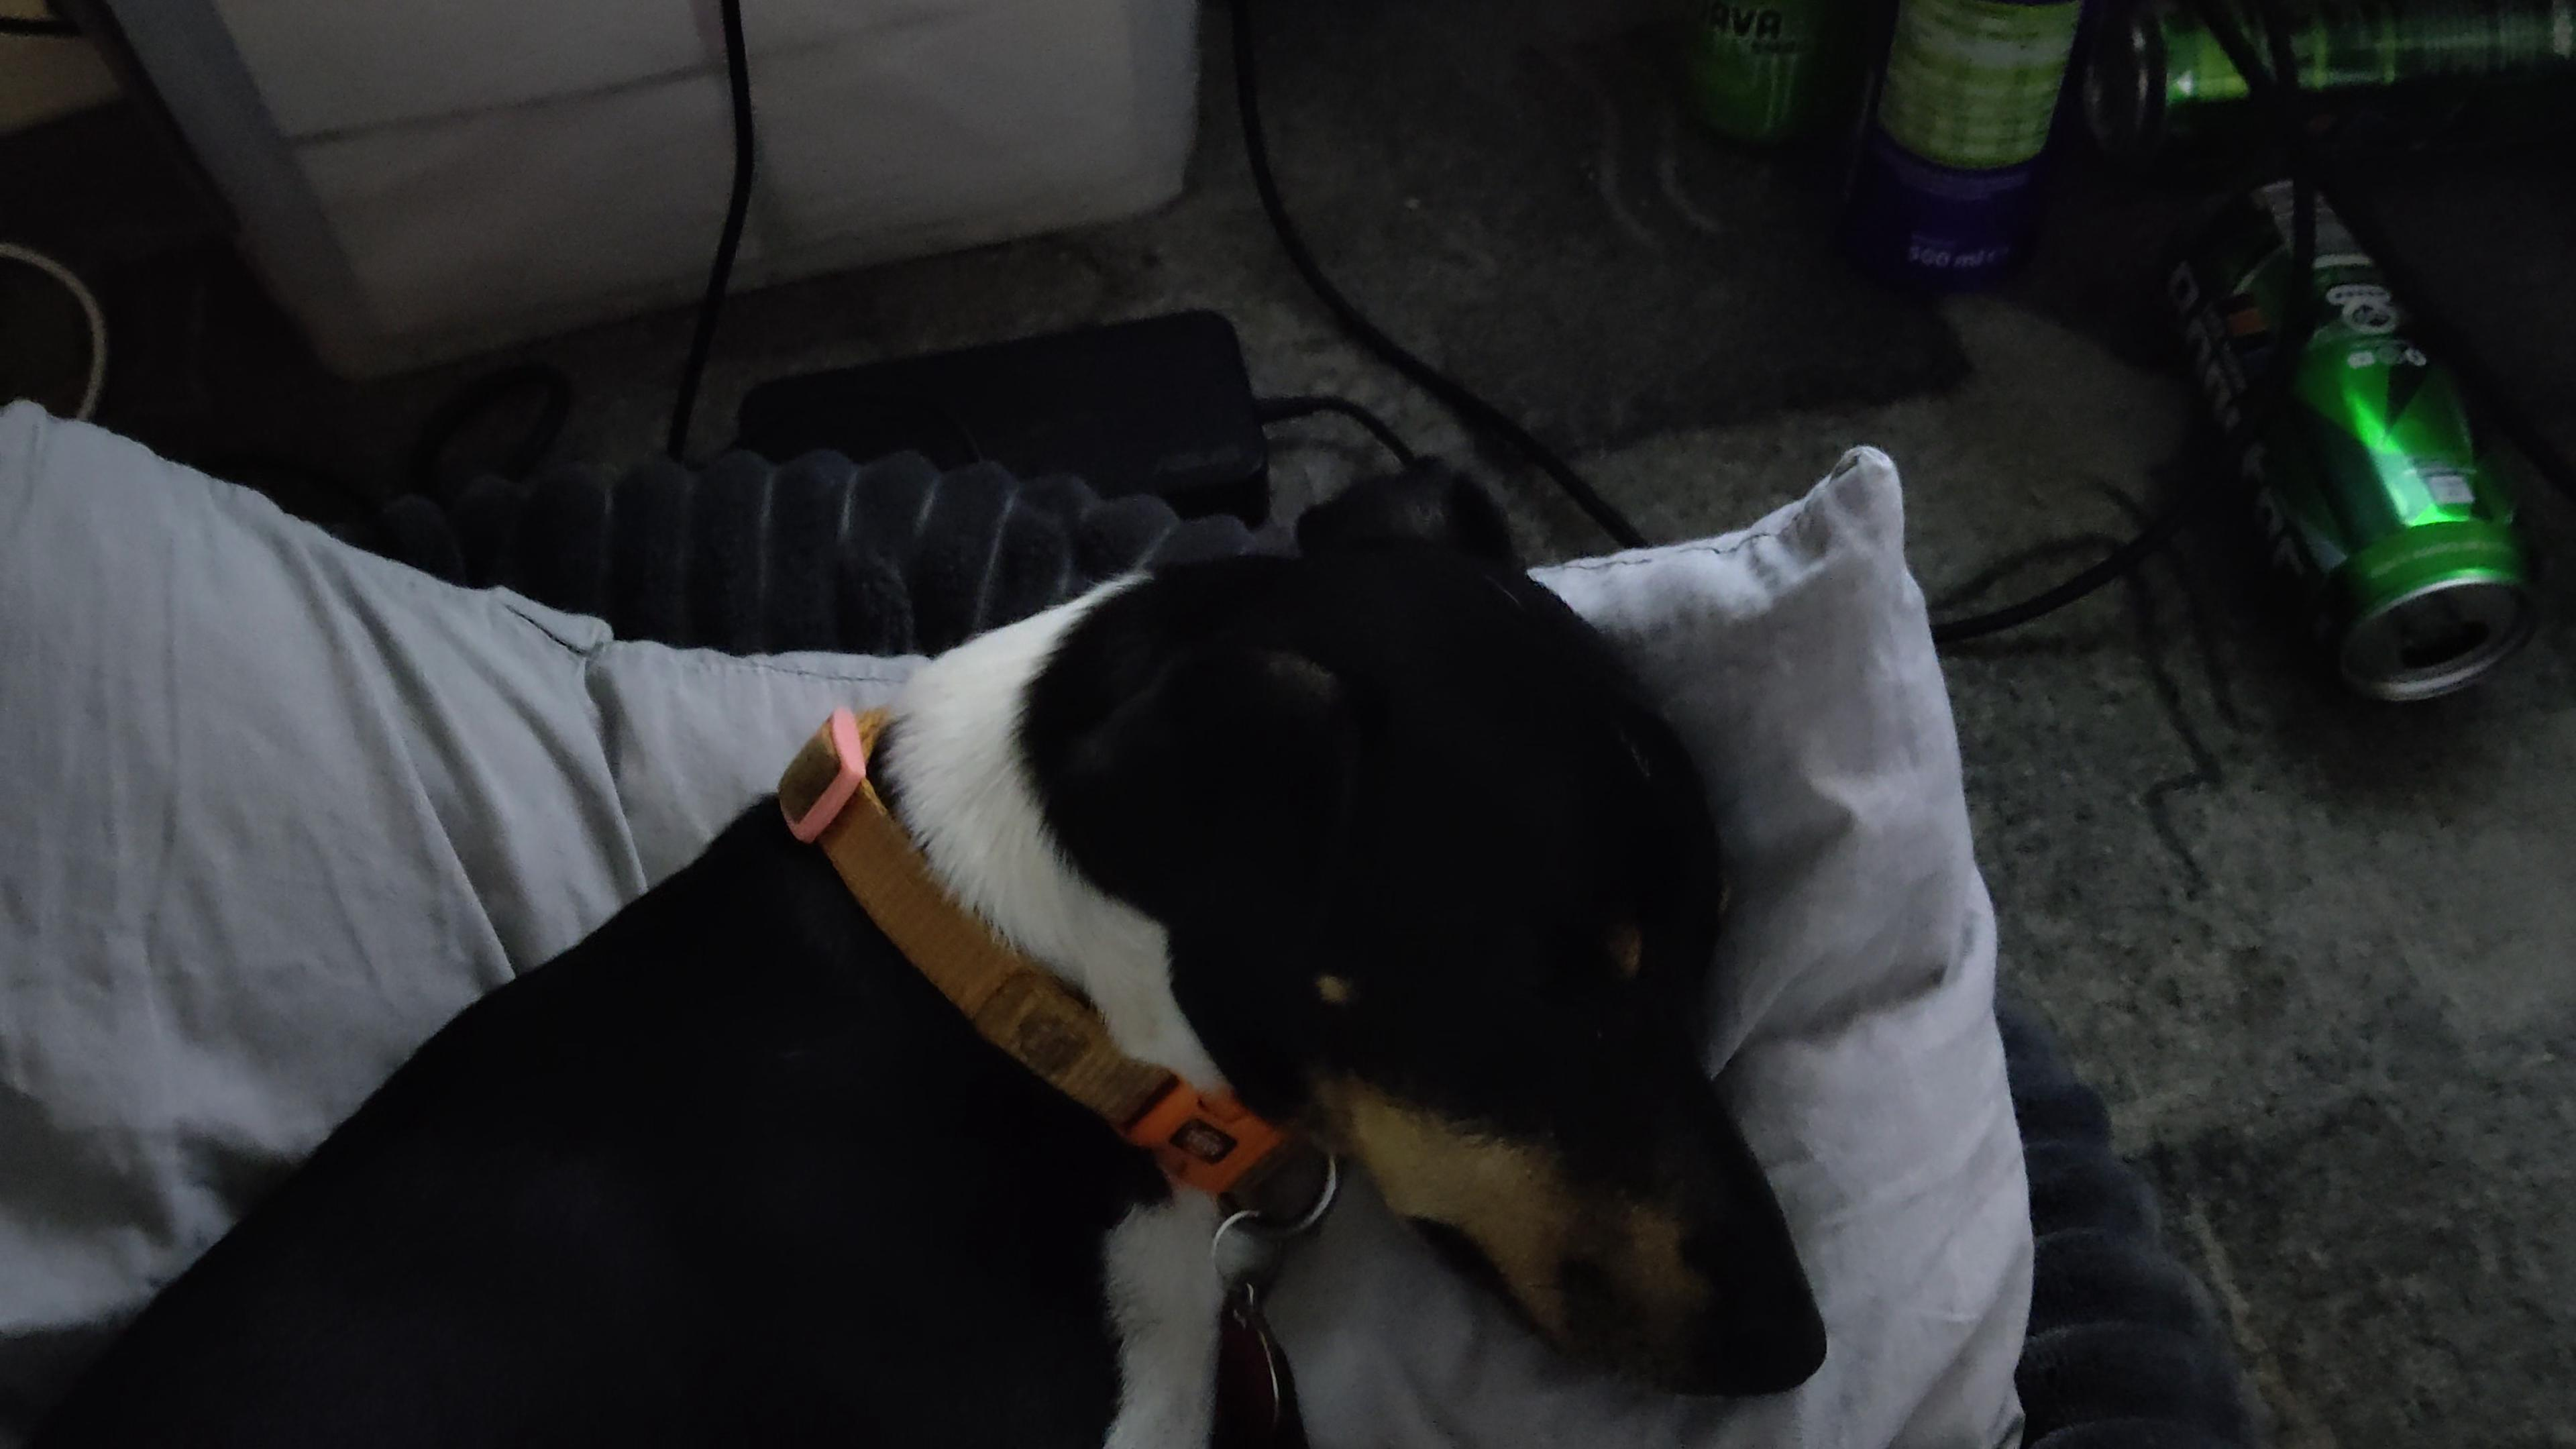Dog: (0, 441, 1845, 1449)
